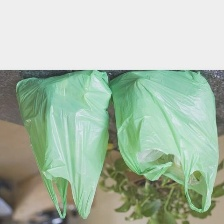plastic_bag: (107, 67, 221, 219), (6, 62, 112, 223)
